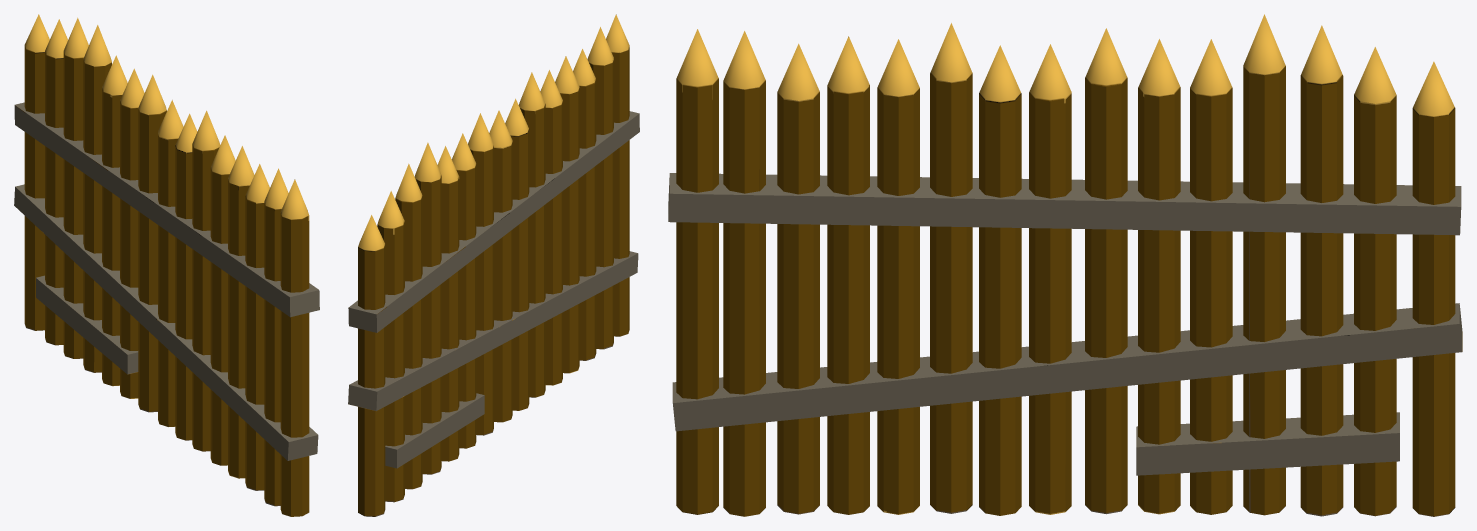
The model's file is Wall_3_Textured.fbx.
The picture shows the model from 3 angles, left to right: view 1: azimuth 30°, elevation 25°; view 2: azimuth 150°, elevation 25°; view 3: azimuth 270°, elevation 25°; orthographic projection. The views are drawn at different scales.
Parts seen in each view (by area): view 1: polySurface38; view 2: polySurface38; view 3: polySurface38.
Part boxes in pixels (bbox=[...]): polySurface38: bbox=[14, 14, 319, 516]; polySurface38: bbox=[348, 14, 639, 516]; polySurface38: bbox=[668, 14, 1462, 516].
Size of the model in its own units: 1.57 by 17.4 by 25.35.
Materials: 1 (1 with a texture image).
